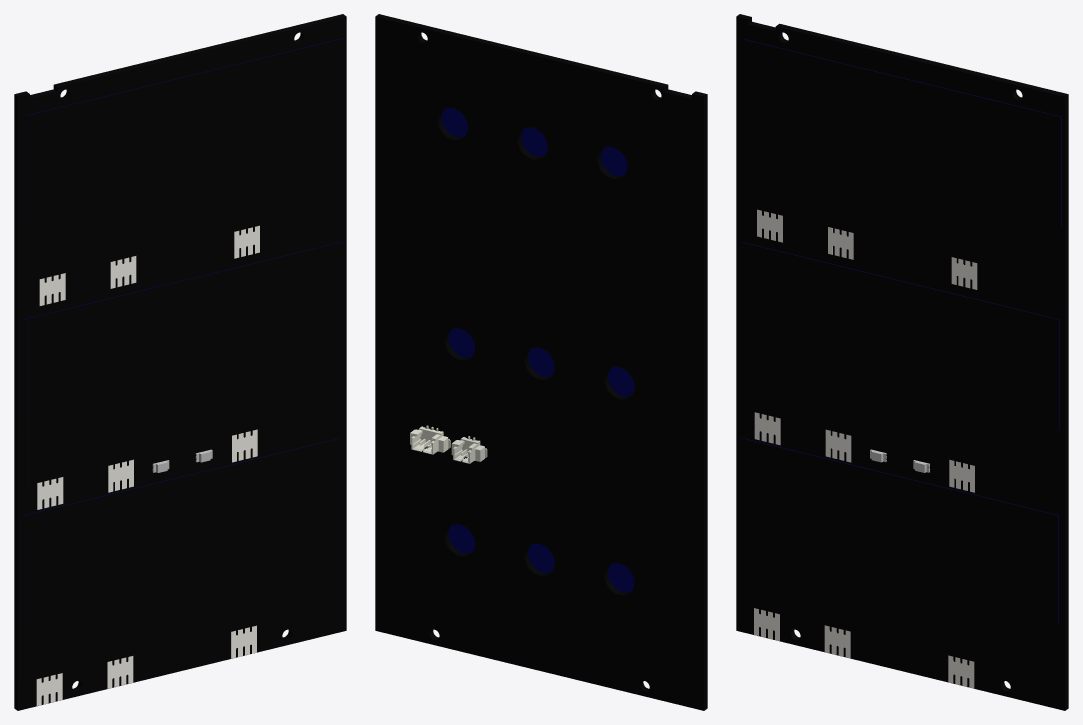
The model's file is Solar_Panel.glb.
3 views of the same model, side by side, from view 1: azimuth 30°, elevation 25°; view 2: azimuth 150°, elevation 25°; view 3: azimuth 330°, elevation 25° (orthographic).
Visible parts, largest first — view 1: empty_7, empty_25, empty_13, empty_2, empty_10, empty_24, empty_4, empty_22, empty_6, empty_11, empty_5, empty_12 (+1 smaller); view 2: empty_2, empty_9, empty_21, empty_3, empty_20, empty_19; view 3: empty_7, empty_25, empty_13, empty_2, empty_10, empty_23, empty_24, empty_5, empty_12, empty_6, empty_11, empty_22 (+1 smaller).
Part boxes in pixels (left/top/right/bottom): empty_7: left=26, top=38, right=344, bottom=282; empty_25: left=23, top=438, right=341, bottom=682; empty_13: left=24, top=242, right=341, bottom=486; empty_2: left=14, top=14, right=346, bottom=710; empty_10: left=37, top=477, right=63, bottom=509; empty_24: left=107, top=656, right=133, bottom=688; empty_4: left=39, top=273, right=65, bottom=305; empty_22: left=36, top=673, right=62, bottom=705; empty_6: left=110, top=256, right=136, bottom=288; empty_11: left=232, top=429, right=257, bottom=462; empty_5: left=234, top=225, right=259, bottom=258; empty_12: left=108, top=459, right=133, bottom=492; empty_2: left=375, top=14, right=707, bottom=710; empty_9: left=448, top=328, right=634, bottom=396; empty_21: left=448, top=524, right=634, bottom=592; empty_3: left=441, top=108, right=627, bottom=176; empty_20: left=410, top=425, right=450, bottom=454; empty_19: left=451, top=436, right=487, bottom=463; empty_7: left=743, top=39, right=1061, bottom=270; empty_25: left=740, top=438, right=1058, bottom=668; empty_13: left=741, top=242, right=1058, bottom=473; empty_2: left=736, top=14, right=1068, bottom=710; empty_10: left=754, top=412, right=780, bottom=445; empty_23: left=948, top=655, right=974, bottom=688; empty_24: left=824, top=625, right=850, bottom=658; empty_5: left=951, top=257, right=977, bottom=289; empty_12: left=825, top=429, right=851, bottom=462; empty_6: left=828, top=227, right=853, bottom=259; empty_11: left=949, top=459, right=974, bottom=492; empty_22: left=754, top=608, right=779, bottom=640.
Size of the model in its own units: 83 by 148 by 7.33.
